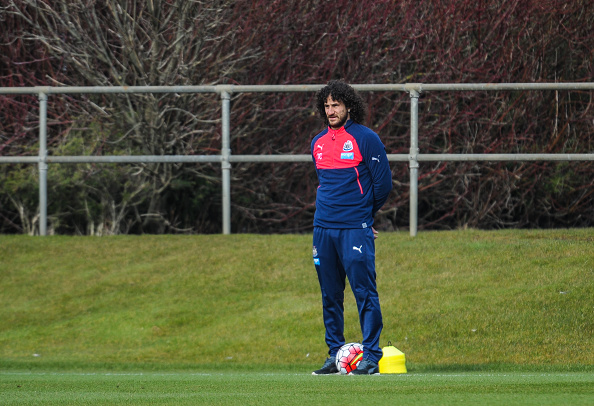em pe: (299, 77, 395, 373)
